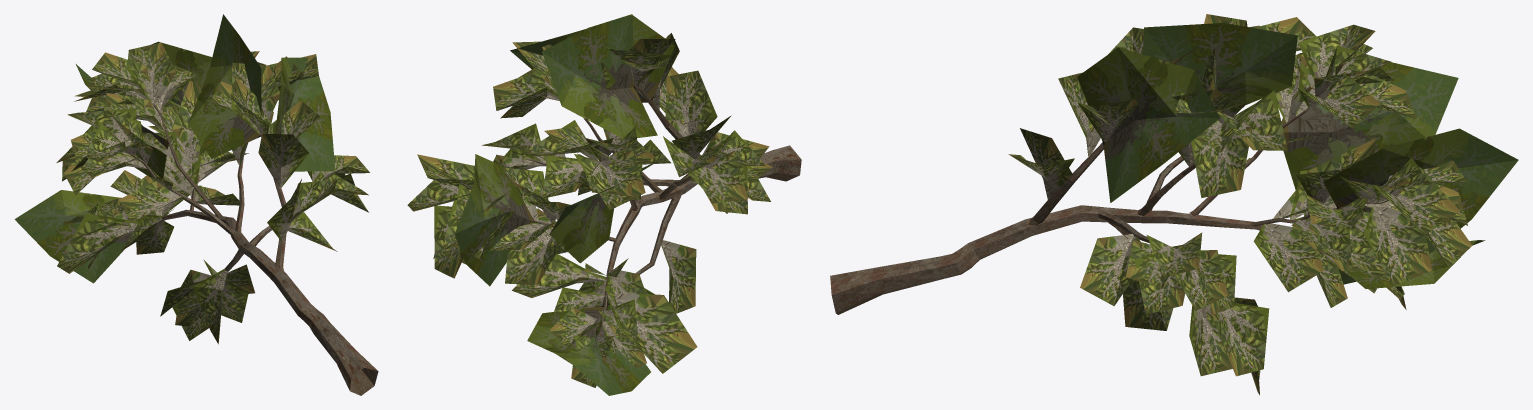
File: House58.fbx
3 renders of one model, left to right at view 1: azimuth 30°, elevation 25°; view 2: azimuth 150°, elevation 25°; view 3: azimuth 270°, elevation 25°, orthographic. The views are drawn at different scales.
Parts seen in each view (by area): view 1: AT_BGAgo_TrH02.mo; view 2: AT_BGAgo_TrH02.mo; view 3: AT_BGAgo_TrH02.mo.
Boxes of the visible parts, left/top/right/bottom form: AT_BGAgo_TrH02.mo: left=14, top=14, right=378, bottom=395; AT_BGAgo_TrH02.mo: left=407, top=14, right=801, bottom=395; AT_BGAgo_TrH02.mo: left=830, top=14, right=1518, bottom=395.
Size of the model in its own units: 2648 by 2845 by 4533.
